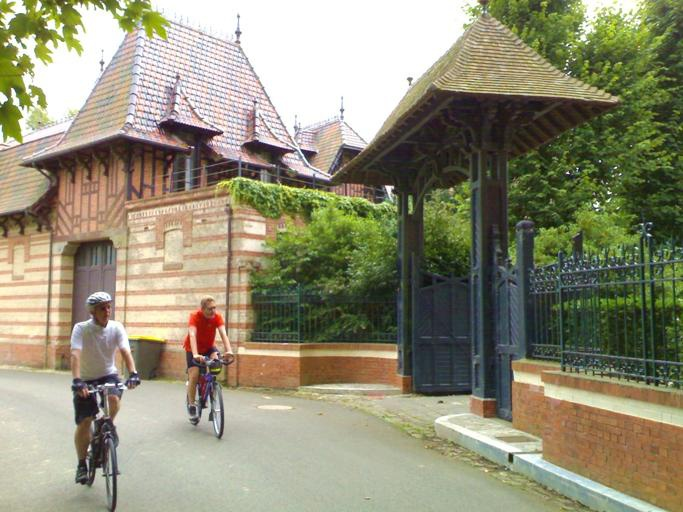non-vehicle: (72, 379, 129, 512), (186, 354, 228, 439)
